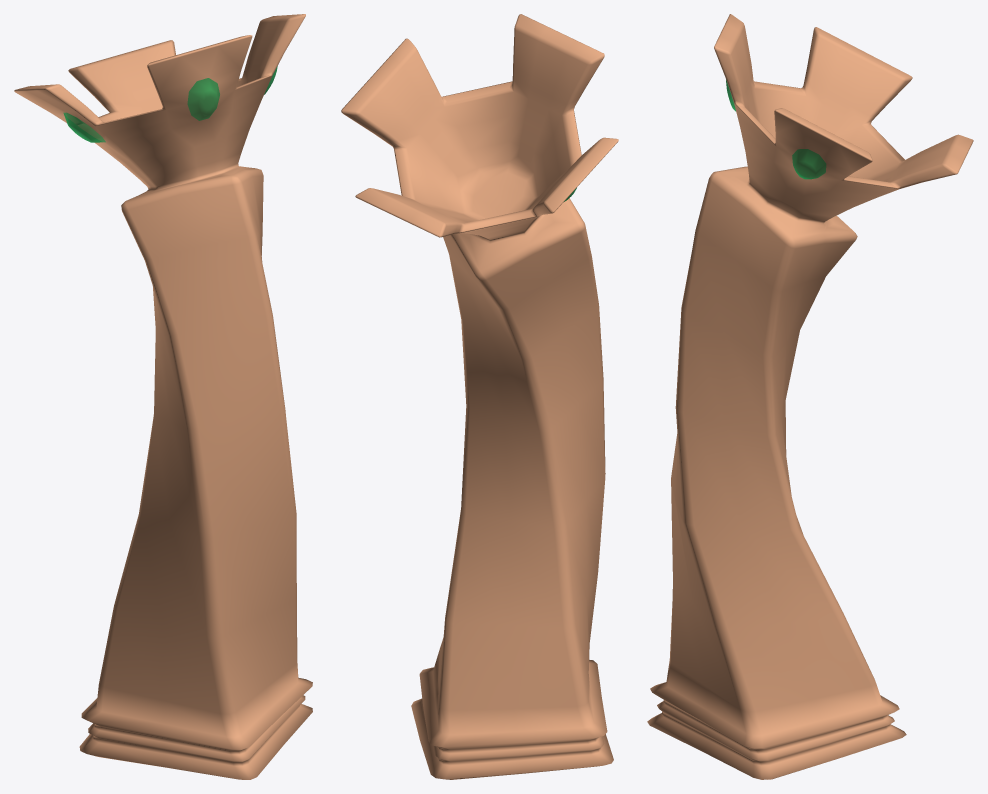
The model's file is Rey.fbx.
The picture shows the model from 3 angles, left to right: view 1: azimuth 30°, elevation 25°; view 2: azimuth 150°, elevation 25°; view 3: azimuth 270°, elevation 25°; orthographic projection. The views are drawn at different scales.
Visible parts, largest first — view 1: Rey.002; view 2: Rey.002; view 3: Rey.002.
Boxes of the visible parts, <box> form: Rey.002: <box>14,14,312,779</box>; Rey.002: <box>341,14,618,779</box>; Rey.002: <box>647,14,973,779</box>.
Size of the model in its own units: 105 by 281 by 119.
